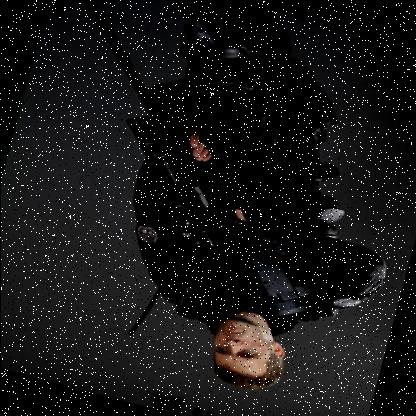rifle: (11, 0, 388, 325)
